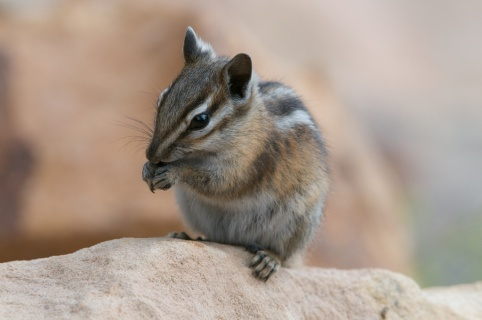Squirrel: (101, 24, 330, 282)
